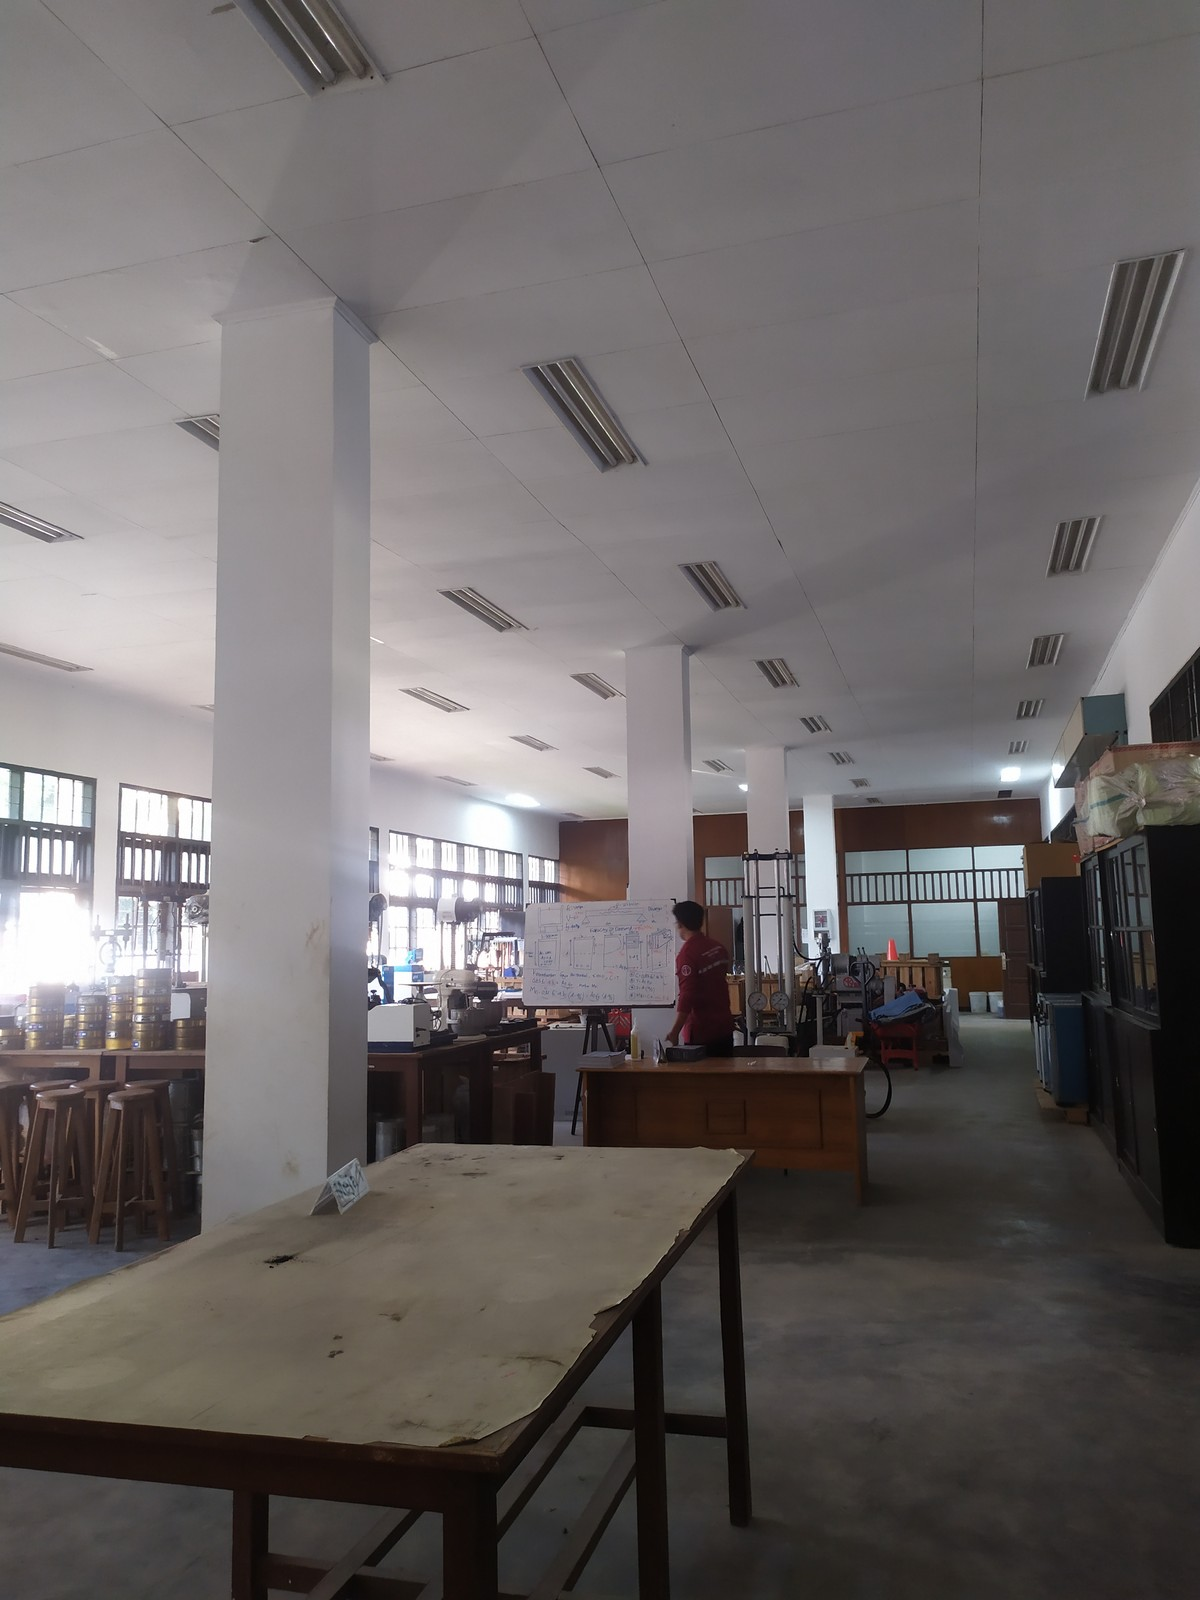concrete column: (195, 283, 386, 1201), (613, 634, 705, 908), (734, 740, 799, 973)
